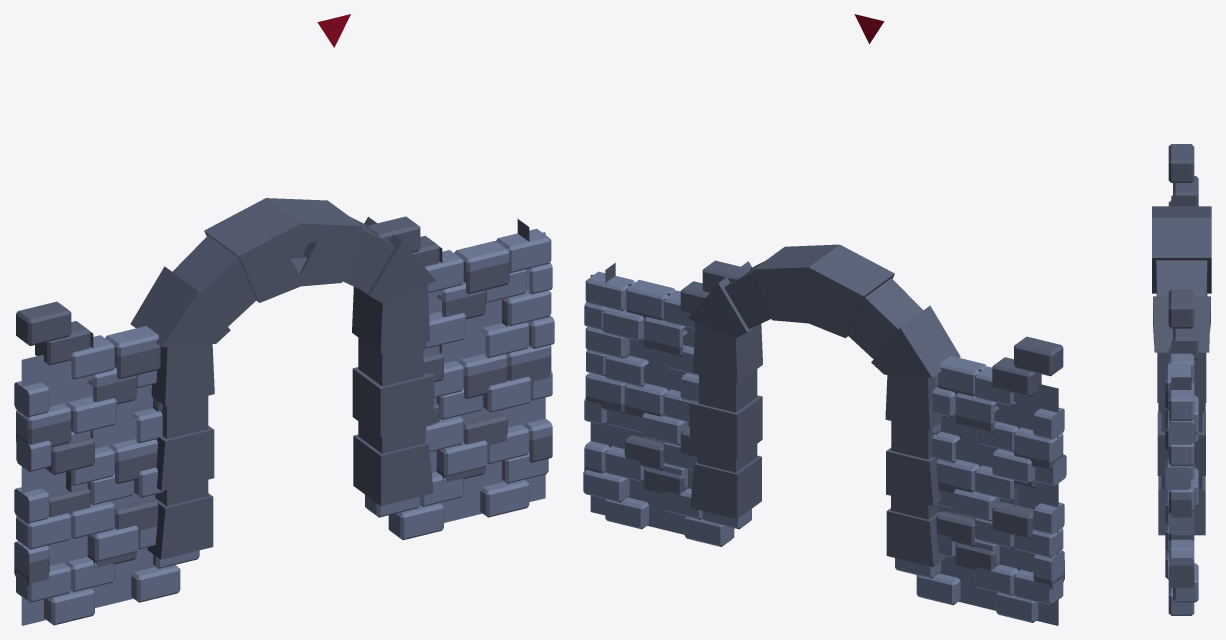
File: brick-wall-with-bars-001.glb
The picture shows the model from 3 angles, left to right: view 1: azimuth 30°, elevation 25°; view 2: azimuth 150°, elevation 25°; view 3: azimuth 270°, elevation 25°; orthographic projection. The views are drawn at different scales.
Visible parts, largest first — view 1: brick wall with bars.001; view 2: brick wall with bars.001; view 3: brick wall with bars.001.
Boxes of the visible parts, bbox=[...] form: brick wall with bars.001: bbox=[14, 14, 554, 625]; brick wall with bars.001: bbox=[583, 14, 1066, 625]; brick wall with bars.001: bbox=[1152, 144, 1211, 615].
Bounding box in the file's own units: 2 × 2.12 × 0.4515.
